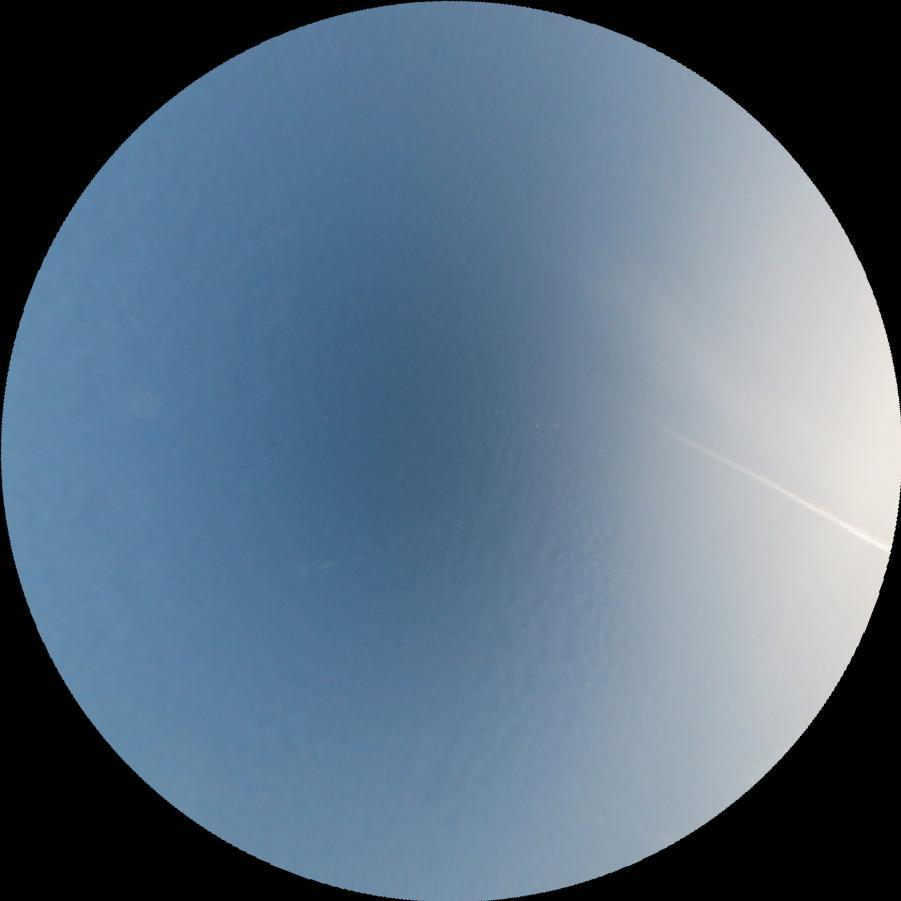contrail old: (655, 420, 892, 554)
contrail young: (317, 560, 334, 568)
